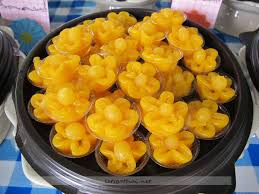tongyip: (89, 96, 139, 140), (141, 93, 187, 136), (97, 134, 146, 172), (45, 83, 91, 119), (120, 58, 159, 98), (150, 132, 196, 165), (53, 120, 93, 155), (196, 71, 236, 103), (40, 55, 85, 82), (56, 29, 94, 52), (168, 27, 203, 50), (153, 8, 182, 26)
